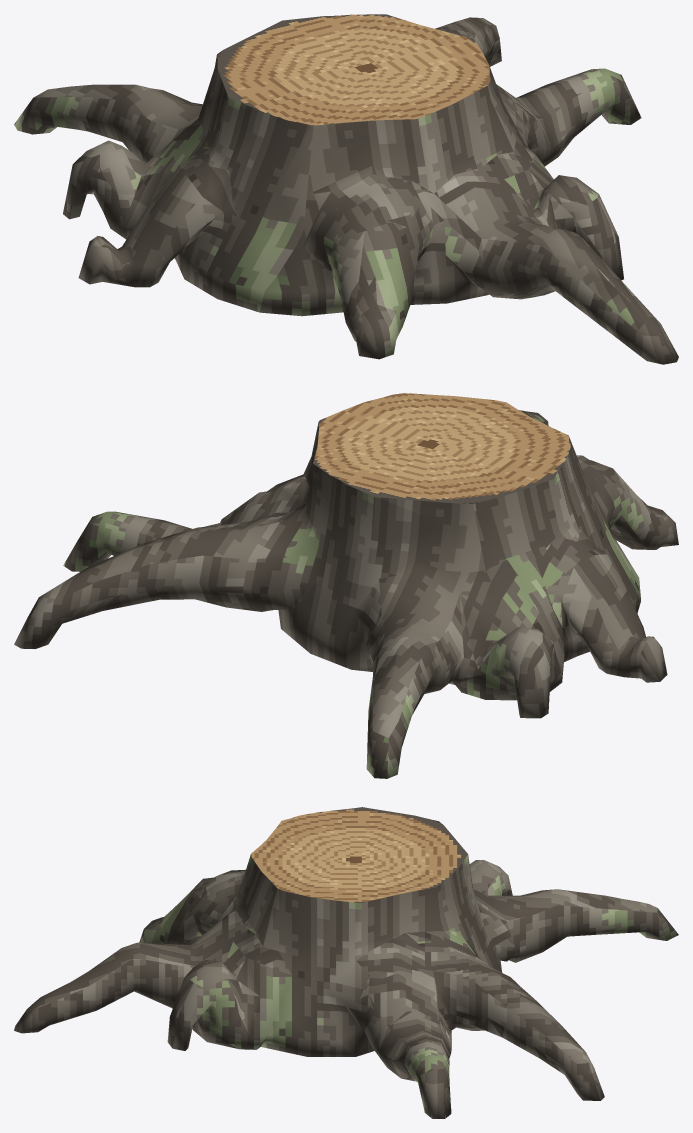
The model's file is environment_elm4_stump_v56.fbx.
3 renders of one model, top to bottom at view 1: azimuth 30°, elevation 25°; view 2: azimuth 150°, elevation 25°; view 3: azimuth 270°, elevation 25°, orthographic. The views are drawn at different scales.
Visible parts, largest first — view 1: environment_elm4_stump_v56; view 2: environment_elm4_stump_v56; view 3: environment_elm4_stump_v56.
Boxes of the visible parts, box(x1,y1,x2,y2) form: environment_elm4_stump_v56: box(14, 14, 678, 364); environment_elm4_stump_v56: box(14, 393, 678, 778); environment_elm4_stump_v56: box(14, 807, 678, 1118).
Bounding box in the file's own units: 432 × 115 × 525.
Materials: 2 (2 with a texture image).
